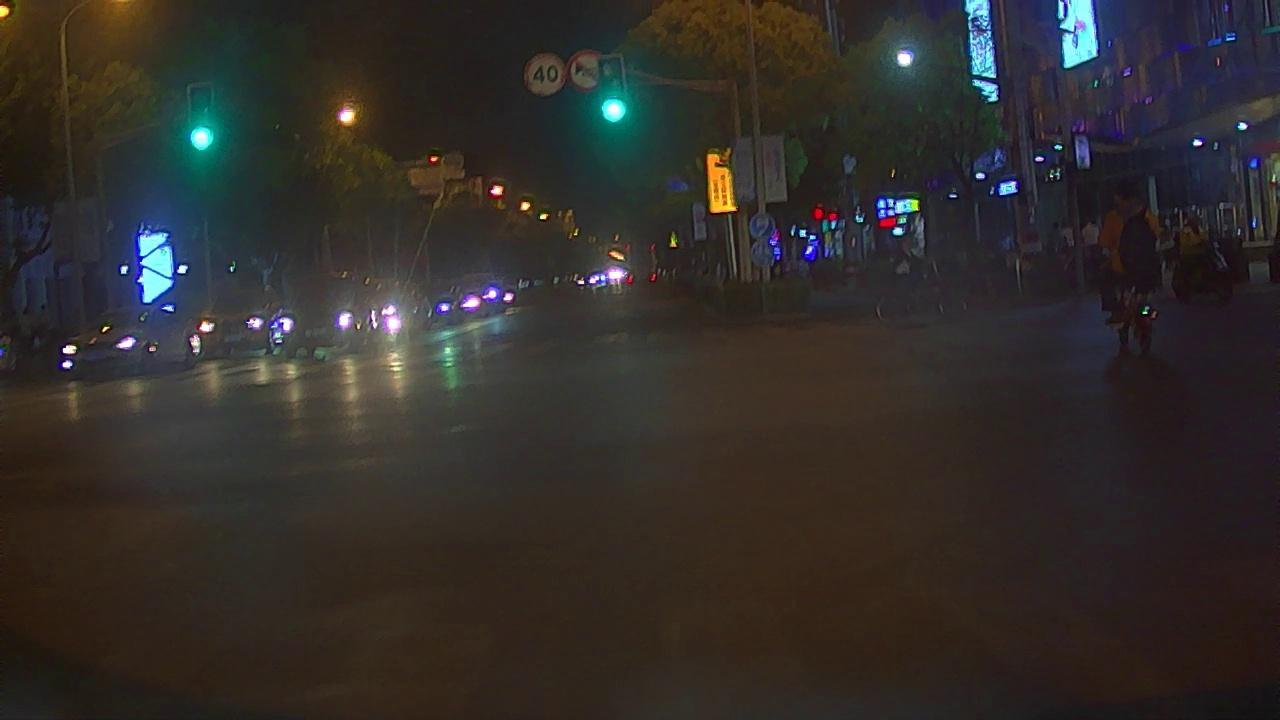traffic_light: (600, 58, 626, 128), (189, 88, 215, 157)
